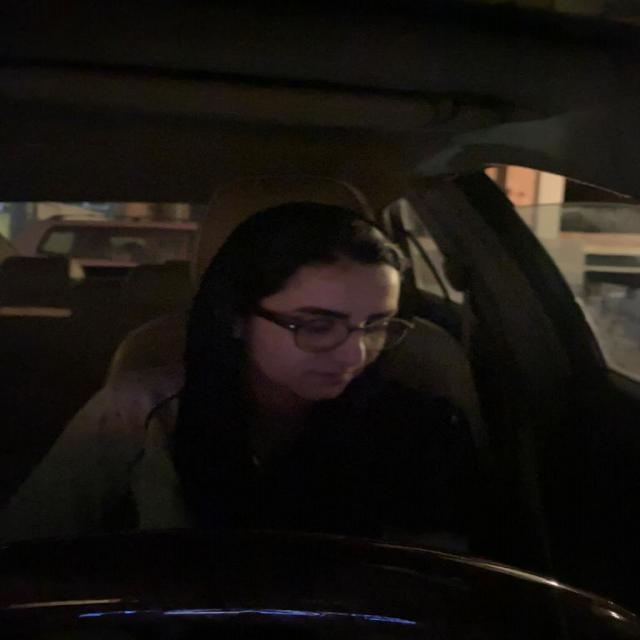drowsy: (212, 199, 418, 402)
